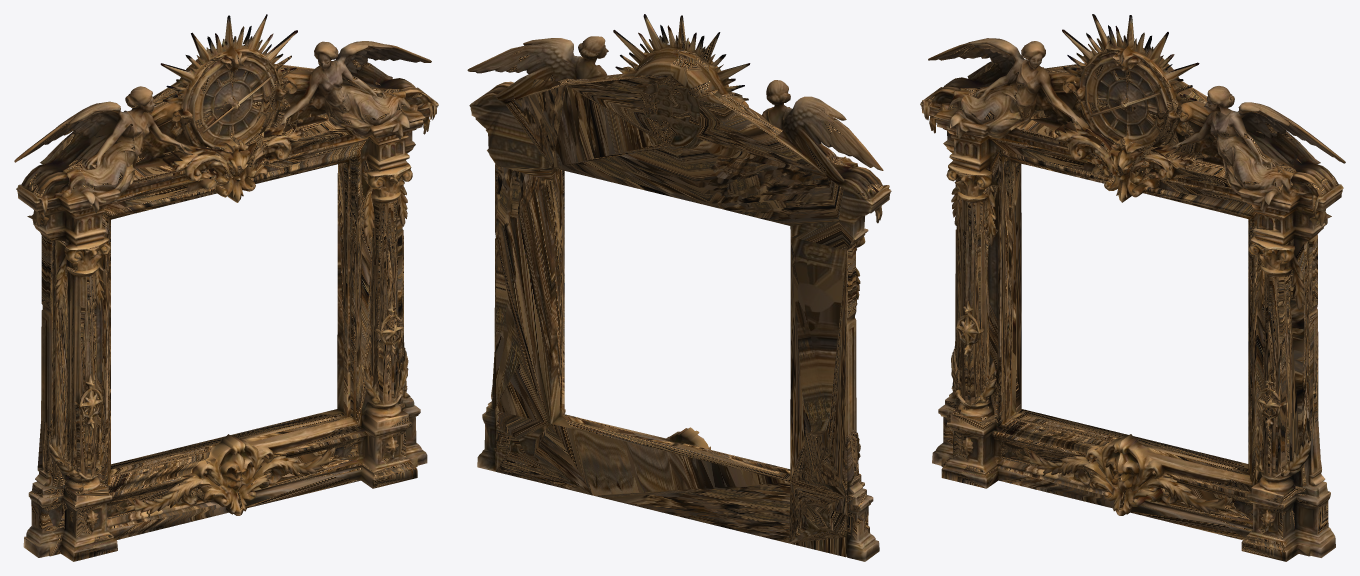
File: art002-gallery-frame-game.glb
3 renders of one model, left to right at view 1: azimuth 30°, elevation 25°; view 2: azimuth 150°, elevation 25°; view 3: azimuth 330°, elevation 25°, orthographic.
Parts seen in each view (by area): view 1: GalleryFrame; view 2: GalleryFrame; view 3: GalleryFrame.
Part boxes in pixels (x1,y1,x2,y2): GalleryFrame: (14, 14, 438, 561); GalleryFrame: (467, 14, 891, 561); GalleryFrame: (920, 14, 1345, 561).
Bounding box in the file's own units: 0.8839 × 0.9959 × 0.1279.
1 material, 1 textured.
